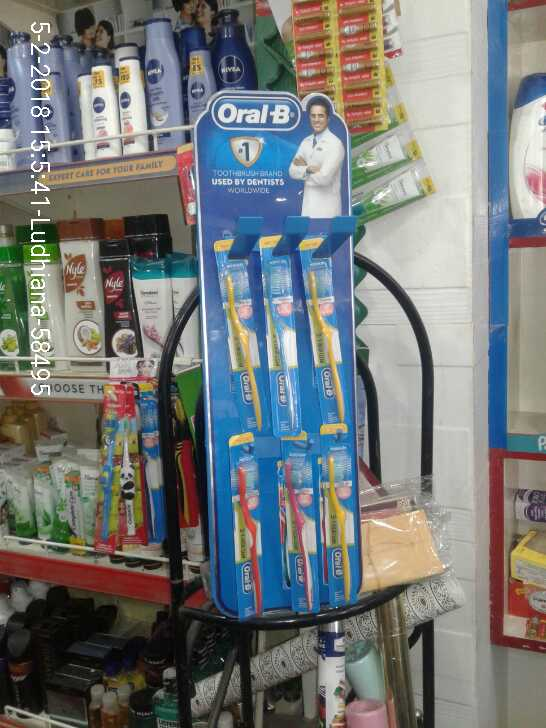oral: (261, 252, 306, 435), (223, 253, 265, 443), (223, 462, 269, 612), (281, 449, 321, 611), (311, 258, 346, 434), (327, 436, 359, 601)
